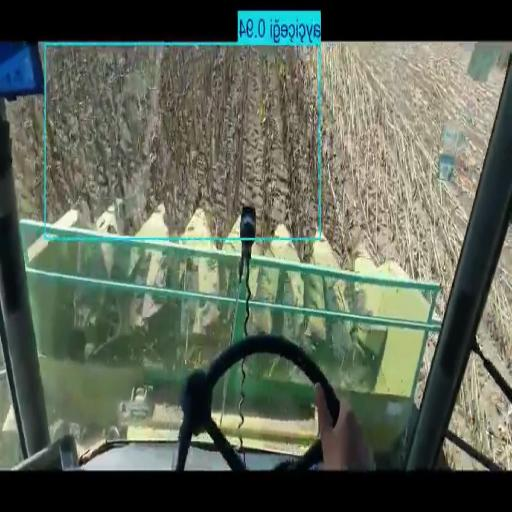ayc: (47, 47, 318, 235)
